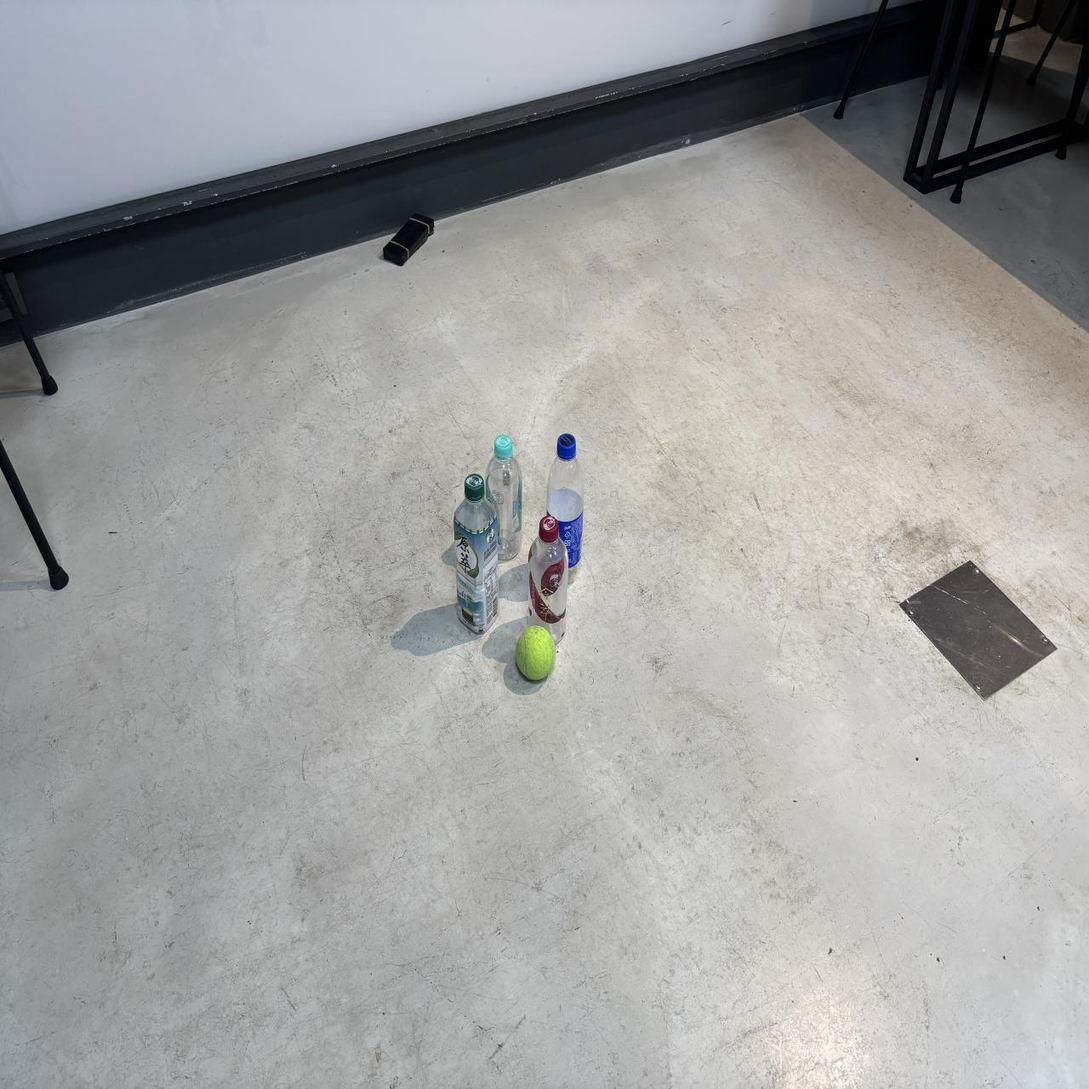plastic-bottle: (454, 474, 499, 633), (547, 435, 583, 575), (529, 516, 567, 646), (486, 435, 522, 562)
tennisball: (516, 626, 556, 681)
